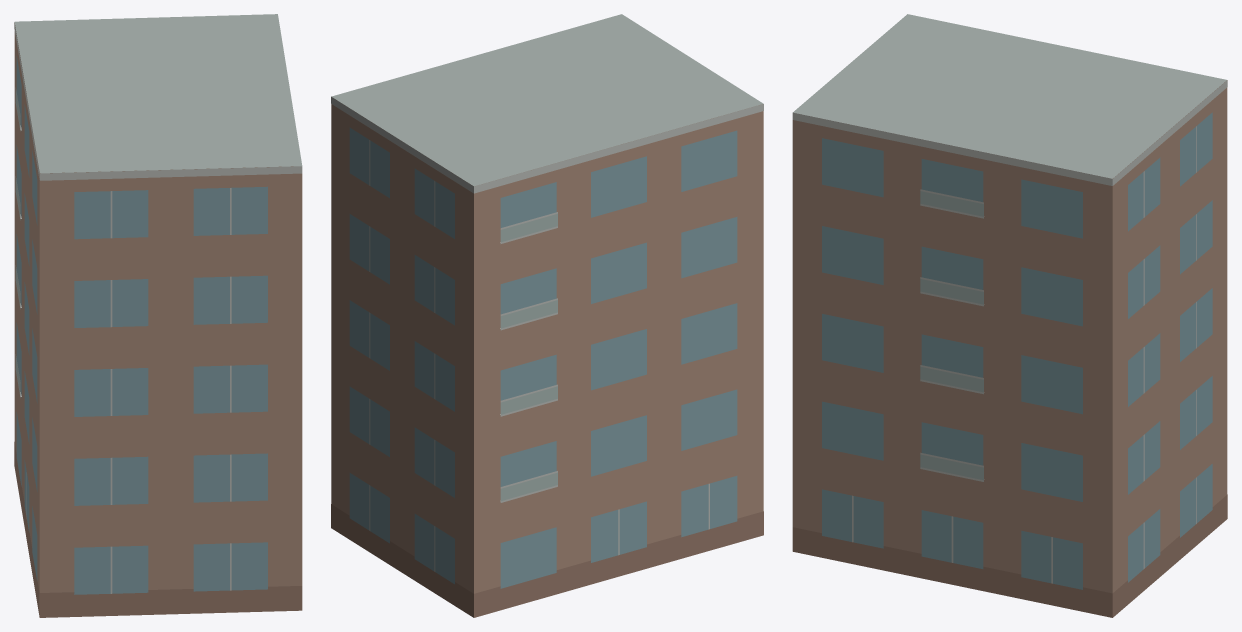
The model's file is survey-upis-33014936.glb.
3 renders of one model, left to right at view 1: azimuth 30°, elevation 25°; view 2: azimuth 150°, elevation 25°; view 3: azimuth 270°, elevation 25°, orthographic. The views are drawn at different scales.
Parts seen in each view (by area): view 1: survey-upis-33014936.tmp; view 2: survey-upis-33014936.tmp; view 3: survey-upis-33014936.tmp.
Part boxes in pixels (<box>): survey-upis-33014936.tmp: <box>14,14,302,617</box>; survey-upis-33014936.tmp: <box>331,14,763,617</box>; survey-upis-33014936.tmp: <box>792,14,1227,617</box>.
Bounding box in the file's own units: 11.76 × 14.6 × 13.11.
